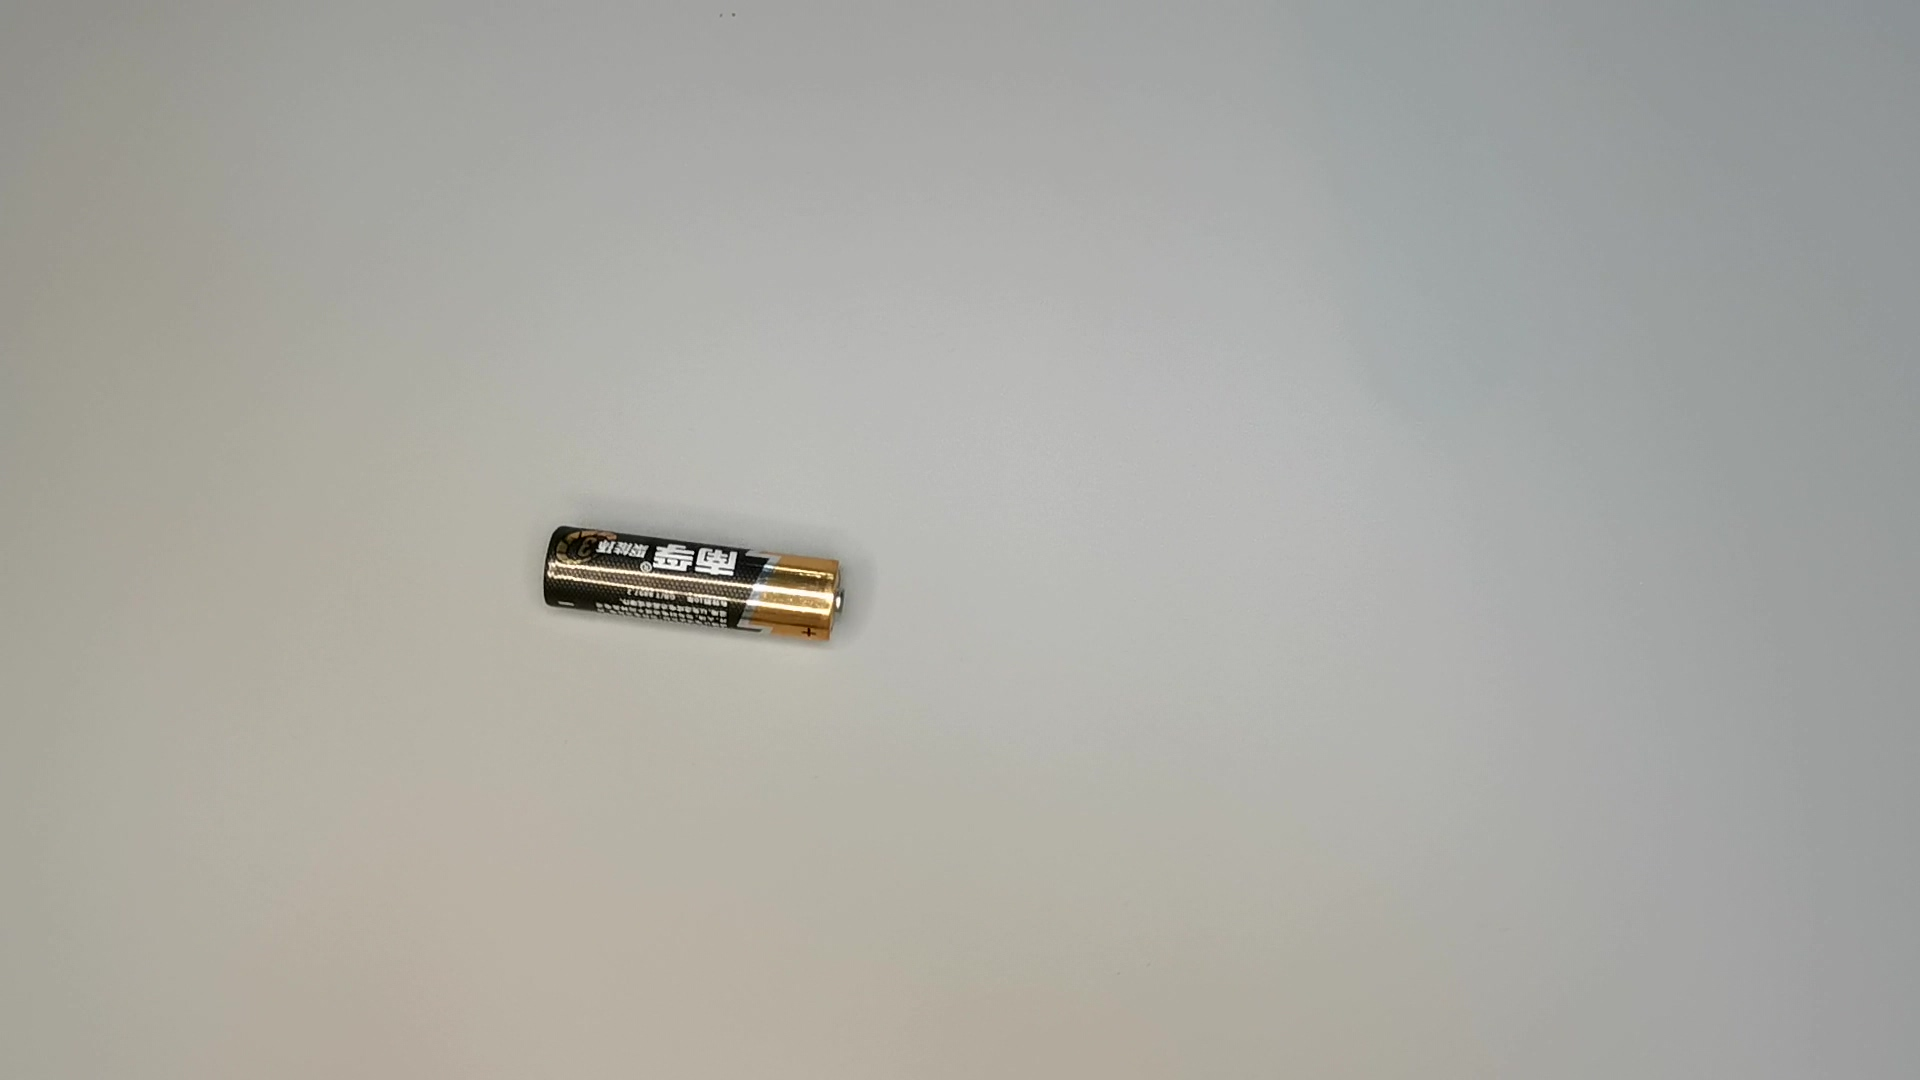battery: (535, 520, 847, 654)
